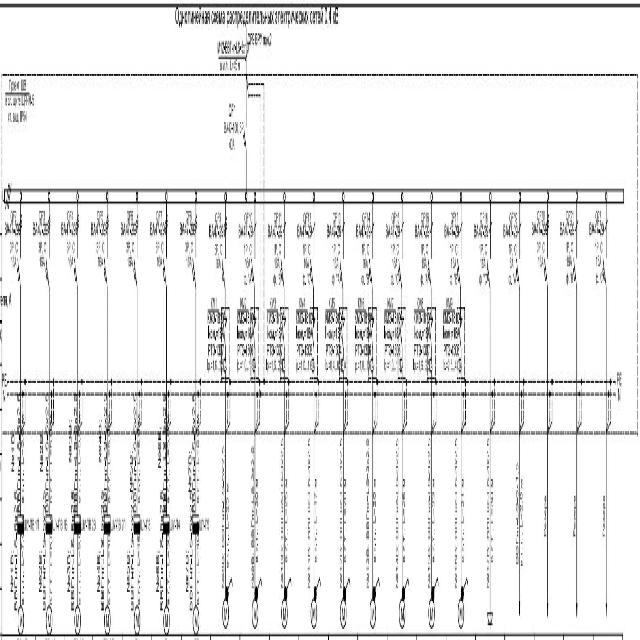-: (295, 310, 313, 378), (324, 309, 342, 377), (207, 309, 225, 377), (266, 308, 284, 376), (384, 312, 402, 380), (354, 309, 372, 377), (413, 308, 431, 376), (442, 308, 459, 376), (237, 309, 254, 377), (4, 92, 35, 126), (589, 220, 604, 289), (238, 221, 253, 290), (326, 221, 341, 290), (268, 222, 283, 290), (385, 222, 400, 290), (444, 224, 459, 292), (503, 223, 518, 291), (297, 221, 311, 290), (560, 221, 574, 290), (356, 221, 370, 290), (415, 222, 429, 290), (474, 222, 488, 290), (121, 218, 136, 272), (61, 219, 76, 273), (4, 220, 19, 274), (33, 218, 48, 272), (91, 219, 105, 273), (209, 221, 223, 275), (180, 220, 194, 274), (150, 221, 164, 275), (531, 221, 546, 271), (223, 120, 244, 152)
KM: (426, 306, 436, 384), (396, 305, 406, 383), (220, 305, 230, 383), (456, 303, 466, 380), (339, 306, 348, 384), (368, 303, 377, 381), (309, 303, 318, 381), (250, 303, 259, 381), (280, 306, 288, 384)
QF: (515, 249, 522, 295), (16, 245, 23, 291), (72, 251, 79, 297), (102, 248, 109, 294), (132, 249, 139, 295), (220, 247, 227, 293), (241, 113, 248, 159), (572, 246, 579, 292), (485, 250, 492, 296), (455, 247, 462, 293), (426, 248, 433, 294), (397, 246, 404, 292), (279, 244, 286, 290), (250, 243, 256, 290), (44, 245, 50, 291), (162, 247, 168, 293), (191, 249, 197, 295), (602, 248, 608, 294), (543, 249, 549, 295), (368, 246, 374, 292), (339, 249, 345, 295), (309, 247, 315, 293)
